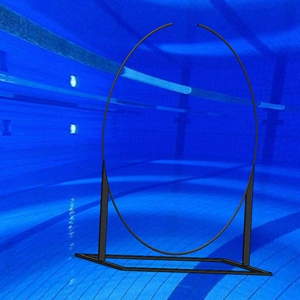circle: (74, 20, 273, 280)
